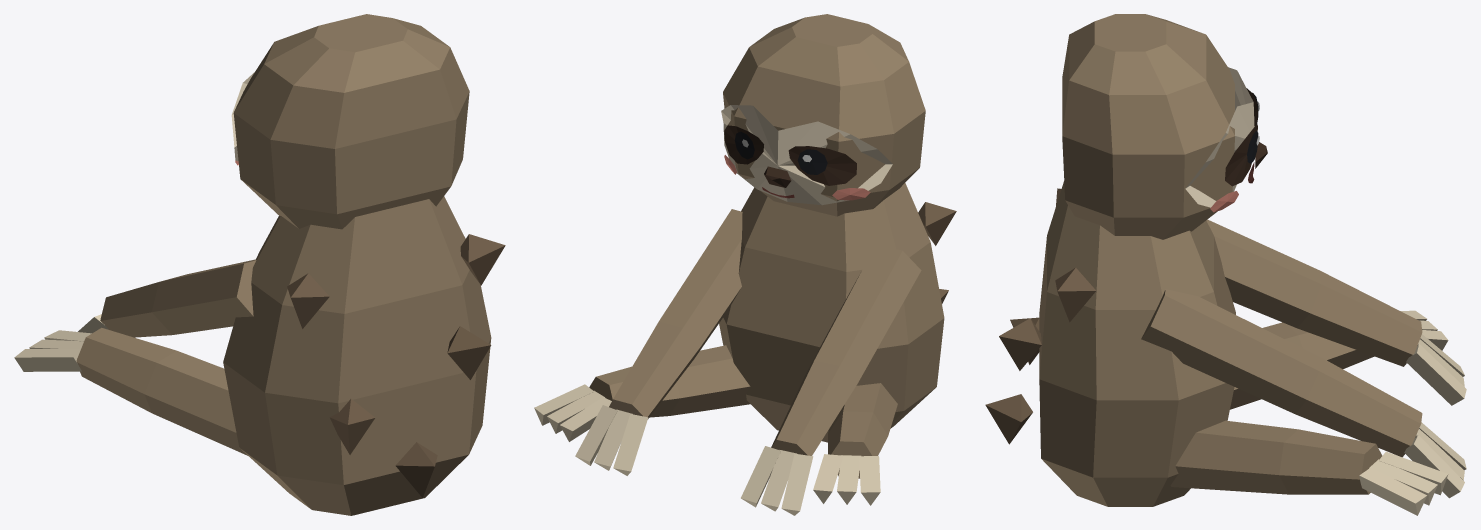
File: sloth_baby_baby.glb
The picture shows the model from 3 angles, left to right: view 1: azimuth 30°, elevation 25°; view 2: azimuth 150°, elevation 25°; view 3: azimuth 270°, elevation 25°; orthographic projection. The views are drawn at different scales.
Visible parts, largest first — view 1: sloth_baby_baby; view 2: sloth_baby_baby; view 3: sloth_baby_baby.
Boxes of the visible parts, box(x1,y1,x2,y2) form: sloth_baby_baby: box(14, 14, 505, 515); sloth_baby_baby: box(534, 14, 956, 515); sloth_baby_baby: box(985, 14, 1466, 515).
Size of the model in its own units: 0.2509 by 0.27 by 0.2646.
Materials: 1 (1 with a texture image).
